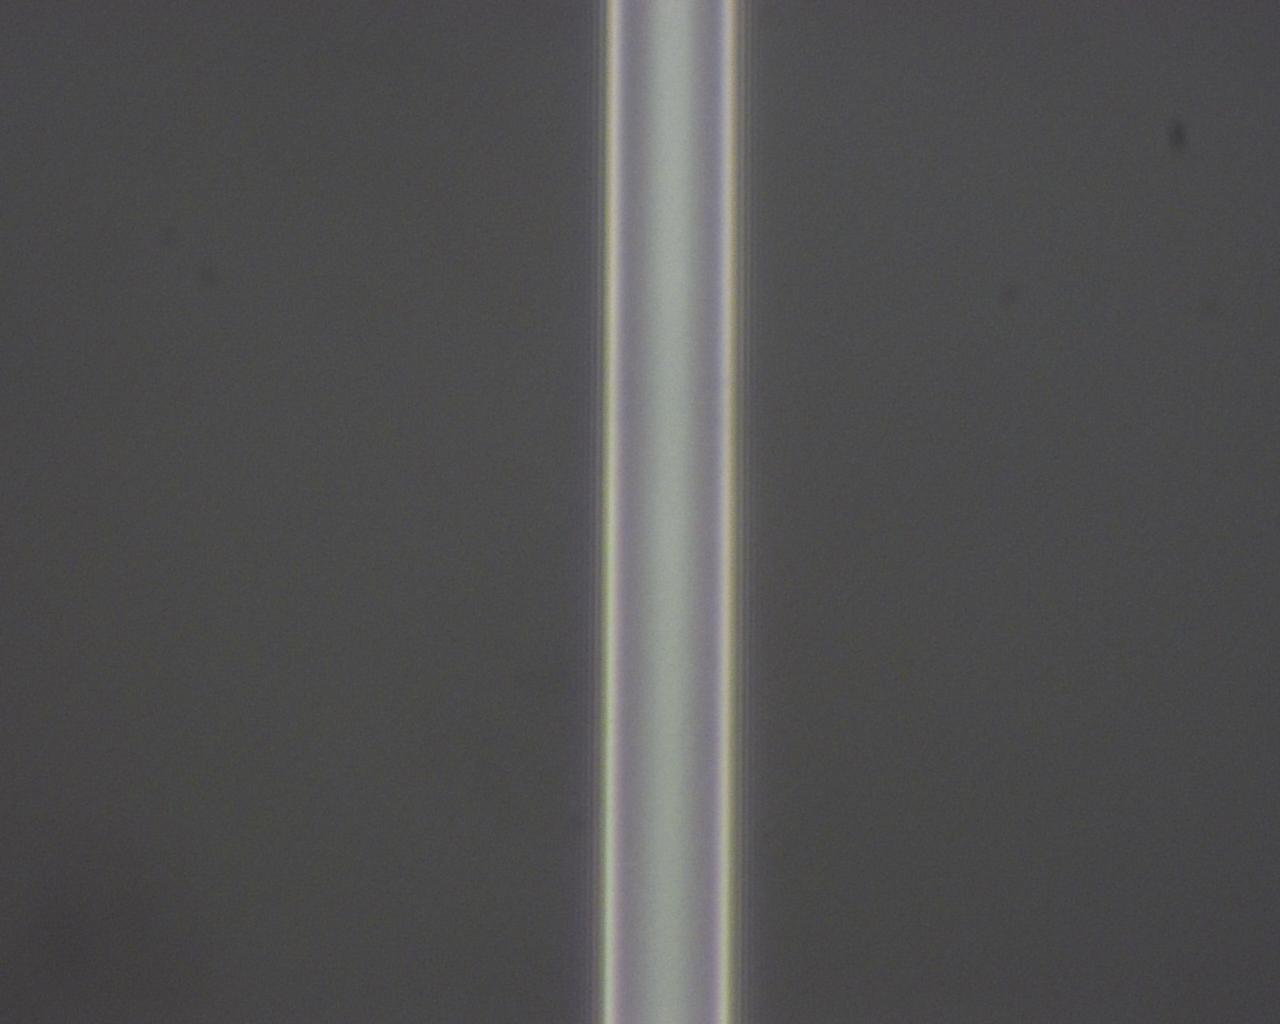fiber: (168, 0, 515, 460), (691, 0, 1280, 210), (0, 685, 691, 774)
